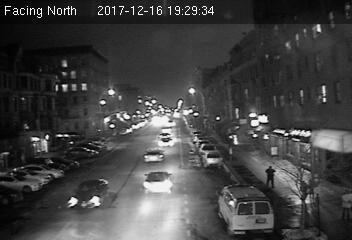car: (69, 179, 109, 209), (142, 170, 172, 193), (143, 148, 165, 164), (203, 151, 224, 167)
pedestrian: (265, 162, 276, 191)
police: (214, 181, 275, 233)
